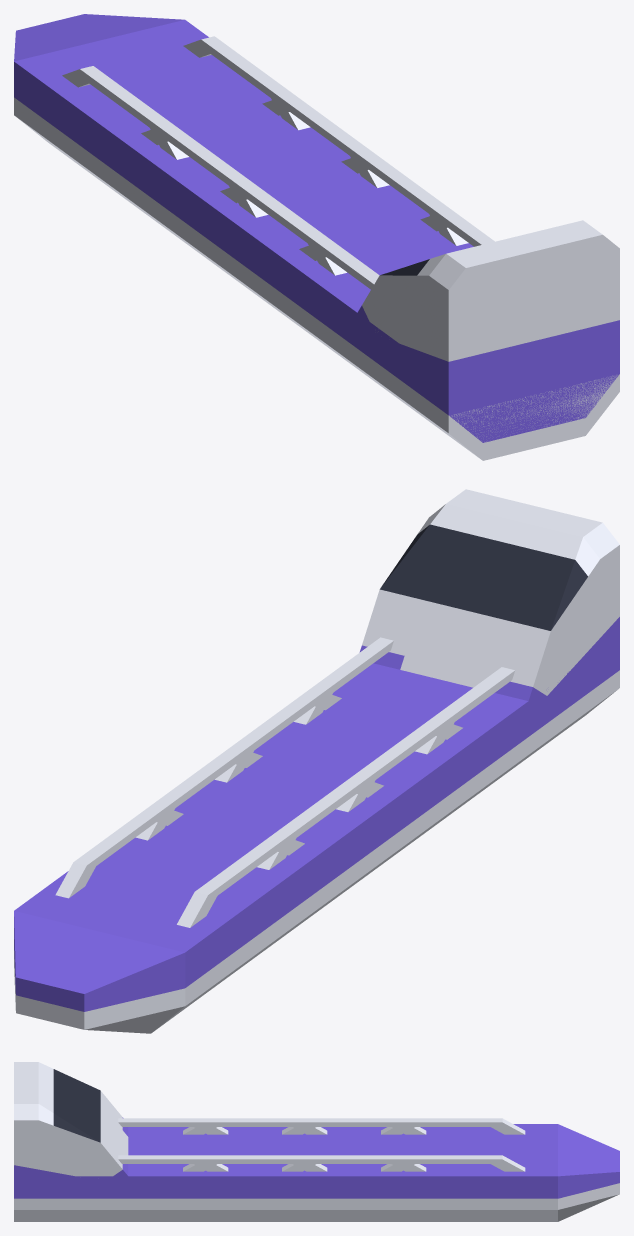
The model's file is barge.glb.
3 views of the same model, one above another, from view 1: azimuth 30°, elevation 25°; view 2: azimuth 150°, elevation 25°; view 3: azimuth 270°, elevation 25° (orthographic). The views are drawn at different scales.
Parts seen in each view (by area): view 1: mergedBlocks(Clone); view 2: mergedBlocks(Clone); view 3: mergedBlocks(Clone).
Part boxes in pixels (x1,y1,x2,y2): mergedBlocks(Clone): (14, 14, 619, 460); mergedBlocks(Clone): (14, 489, 619, 1033); mergedBlocks(Clone): (14, 1062, 619, 1221).
Size of the model in its own units: 1 by 1.1 by 4.9.
